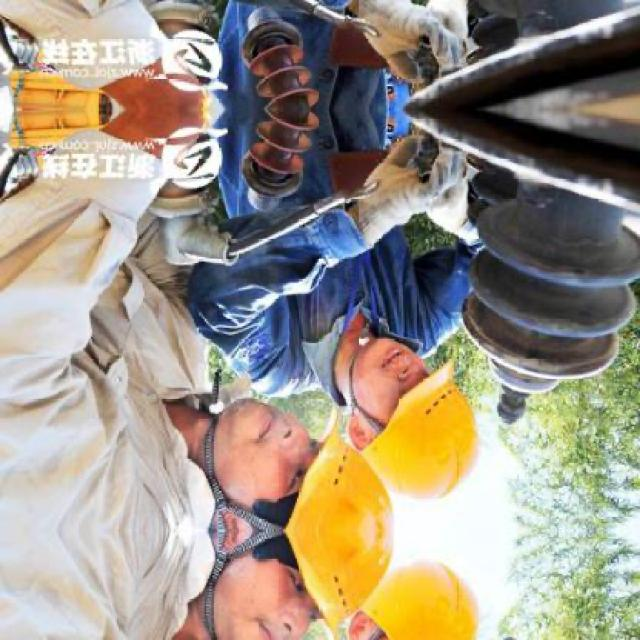con casco: (192, 422, 399, 597), (328, 339, 497, 509)
